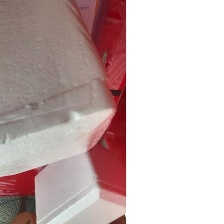foam_box: (0, 0, 119, 182), (29, 140, 125, 224)
